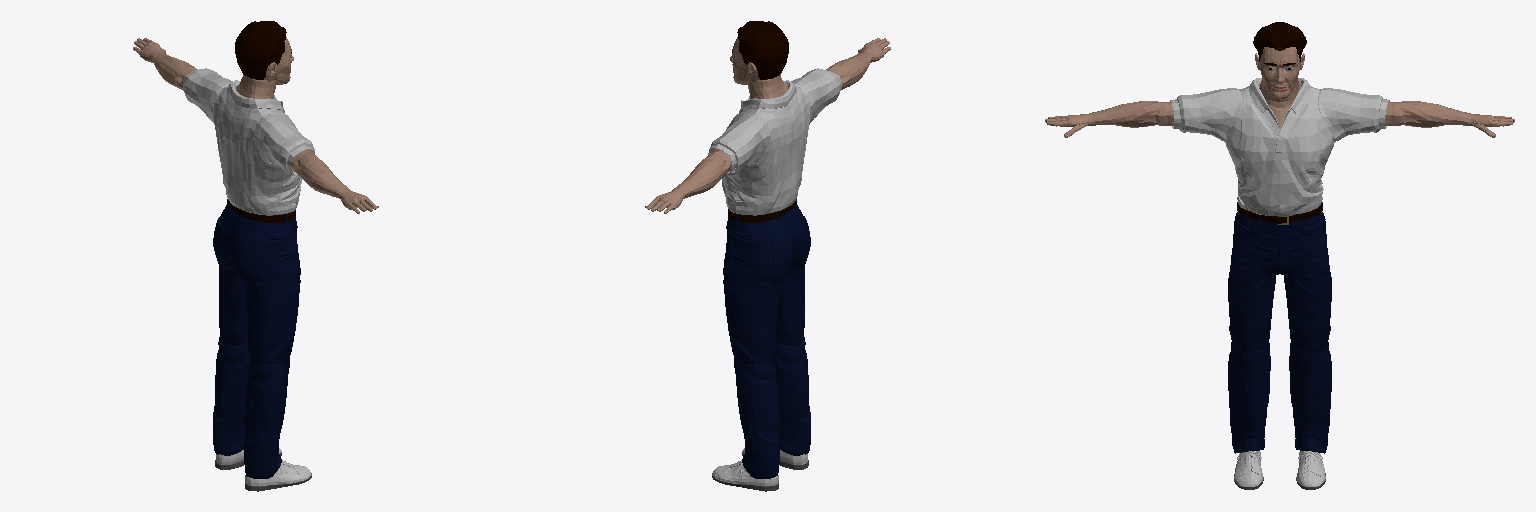
--- What the picture shows (computed from the rendered views, not written in the file) ---
Views: 3 orthographic renders of the robot side by side, from view 1: azimuth 30°, elevation 25°; view 2: azimuth 150°, elevation 25°; view 3: azimuth 270°, elevation 25°.
Model HUMAN with 62 links and 61 joints (30 revolute, 31 fixed), rooted at base_link, posed all joints at 0.
Links seen in each view (by area): view 1: TorsoLink, HipsLink, RShinLink, RLegLink, LShinLink, HeadLink, RArmLink, LLegLink, LArmLink, RForearmLink, RAnkleLink, LForearmLink; view 2: TorsoLink, HipsLink, LShinLink, LLegLink, RShinLink, HeadLink, LArmLink, RLegLink, RArmLink, LForearmLink, LAnkleLink, RForearmLink; view 3: TorsoLink, HipsLink, LShinLink, RShinLink, RLegLink, LLegLink, HeadLink, RArmLink, LArmLink, LForearmLink, RForearmLink, LAnkleLink (+1 smaller).
Link boxes in pixels (box(x1,y1,x2,y2)): TorsoLink: box(212, 74, 301, 215); HipsLink: box(213, 199, 299, 284); RShinLink: box(244, 358, 289, 478); RLegLink: box(244, 265, 300, 364); LShinLink: box(213, 337, 249, 455); HeadLink: box(235, 21, 293, 84); RArmLink: box(254, 114, 314, 175); LLegLink: box(218, 262, 247, 345); LArmLink: box(183, 68, 232, 122); RForearmLink: box(294, 153, 349, 198); RAnkleLink: box(245, 460, 311, 491); LForearmLink: box(151, 52, 194, 89); TorsoLink: box(722, 74, 811, 215); HipsLink: box(724, 199, 810, 284); LShinLink: box(734, 358, 779, 478); LLegLink: box(723, 265, 779, 364); RShinLink: box(774, 337, 810, 455); HeadLink: box(730, 21, 788, 84); LArmLink: box(708, 114, 769, 175); RLegLink: box(776, 262, 805, 345); RArmLink: box(791, 68, 841, 122); LForearmLink: box(672, 153, 729, 198); LAnkleLink: box(712, 460, 778, 491); RForearmLink: box(829, 52, 872, 89); TorsoLink: box(1225, 64, 1334, 216); HipsLink: box(1232, 202, 1327, 277); LShinLink: box(1289, 342, 1331, 453); RShinLink: box(1228, 342, 1270, 453); RLegLink: box(1228, 255, 1275, 352); LLegLink: box(1284, 255, 1331, 352); HeadLink: box(1253, 22, 1306, 98); RArmLink: box(1170, 88, 1241, 141); LArmLink: box(1318, 88, 1389, 141); LForearmLink: box(1396, 101, 1469, 127); RForearmLink: box(1090, 101, 1163, 127); LAnkleLink: box(1296, 451, 1325, 489).
Bounding box of the posed robot: 0.2779 × 1.61 × 1.69 m (x, y, z).
47 mesh visuals loaded from 47 distinct referenced files (47 Collada DAE).

The robot description file, URDF, robot "HUMAN":
<?xml version="1.0" ?>
<robot name="HUMAN" xmlns:xacro="http://ros.org/wiki/xacro">
  
  <link name="base_link"/>

  <joint name="base" type="fixed">
    <parent link="base_link"/>
    <child link="HipsLink"/>
    <origin rpy="0 0 0" xyz="0 0 0.987"/>
  </joint>

  <!-- Body Links -->
  <link name="HipsLink">
    <inertial>
      <origin rpy="0 0 0" xyz="-0.0232 0.0 -0.1192"/>
      <mass value="20.9238"/>
      <inertia ixx="-0.3225" ixy="-0.0" ixz="-0.0" iyy="0.0" iyz="0.2362" izz="0.0"/>
    </inertial>
    <visual>
      <origin rpy="0 0 0" xyz="0 0 0"/>
      <geometry>
        <mesh filename="package://human_description/meshes/HipsLinkFull.dae"/>
      </geometry>
    </visual>
    <collision>
      <origin rpy="0 0 0" xyz="0 0 0"/>
      <geometry>
        <mesh filename="package://human_description/meshes/HipsLinkFull.dae"/>
      </geometry>
    </collision>
  </link>

  <link name="TorsoLink">
    <inertial>
      <origin rpy="0 0 0" xyz="-0.1334 0.1949 0.4701"/>
      <mass value="10.7790"/>
      <inertia ixx="-0.3481" ixy="-0.0" ixz="-0.0" iyy="0.0" iyz="0.2709" izz="0.0"/>
    </inertial>
    <visual>
      <origin rpy="0 0 0" xyz="0 0 0"/>
      <geometry>
        <mesh filename="package://human_description/meshes/TorsoLinkFull.dae"/>
      </geometry>
    </visual>
    <collision>
      <origin rpy="0 0 0" xyz="0 0 0"/>
      <geometry>
        <mesh filename="package://human_description/meshes/TorsoLinkFull.dae"/>
      </geometry>
    </collision>
  </link>

  <link name="HeadLink">
    <inertial>
      <origin rpy="0 0 0" xyz="0.0459 0.0133 0.0433"/>
      <mass value="4.7372"/>
      <inertia ixx="-0.1891" ixy="-0.0" ixz="-0.0" iyy="0.0" iyz="0.1891" izz="0.0"/>
    </inertial>
    <visual>
      <origin rpy="0 0 0" xyz="0 0 0"/>
      <geometry>
        <mesh filename="package://human_description/meshes/HeadLinkFull.dae"/>
      </geometry>
    </visual>
    <collision>
      <origin rpy="0 0 0" xyz="0 0 0"/>
      <geometry>
        <mesh filename="package://human_description/meshes/HeadLinkFull.dae"/>
      </geometry>
    </collision>
  </link>

  <link name="LArmLink">
    <inertial>
      <origin rpy="0 0 0" xyz="-0.0 0.1328 0.0"/>
      <mass value="1.96"/>
      <inertia ixx="-0.3475" ixy="-0.0" ixz="-0.0" iyy="0.0" iyz="0.6719" izz="0.0"/>
    </inertial>
    <visual>
      <origin rpy="0 0 0" xyz="0 0 0"/>
      <geometry>
        <mesh filename="package://human_description/meshes/LArmLinkFull.dae"/>
      </geometry>
    </visual>
    <collision>
      <origin rpy="0 0 0" xyz="0 0 0"/>
      <geometry>
        <mesh filename="package://human_description/meshes/LArmLinkFull.dae"/>
      </geometry>
    </collision>
  </link>

  <link name="LElbowLink">
    <inertial>
      <origin rpy="0 0 0" xyz="0.000513 0.034528 -0.000934"/>
      <mass value="0.25"/>
      <inertia ixx="-5.9e-05" ixy="-0.0" ixz="-0.0" iyy="0.0" iyz="8e-05" izz="0.0"/>
    </inertial>
    <visual>
      <origin rpy="0 0 0" xyz="0 0 0"/>
      <geometry>
        <mesh filename="package://human_description/meshes/LElbowLink.dae"/>
      </geometry>
    </visual>
    <collision>
      <origin rpy="0 0 0" xyz="0 0 0"/>
      <geometry>
        <mesh filename="package://human_description/meshes/LElbowLink.dae"/>
      </geometry>
    </collision>
  </link>

  <link name="LForearmLink">
    <inertial>
      <origin rpy="0 0 0" xyz="-0.0 0.15114 0.0"/>
      <mass value="1.18"/>
      <inertia ixx="-0.0753" ixy="-0.0" ixz="-0.0" iyy="0.0" iyz="0.1326" izz="0.0"/>
    </inertial>
    <visual>
      <origin rpy="0 0 0" xyz="0 0 0"/>
      <geometry>
        <mesh filename="package://human_description/meshes/LForearmLink.dae"/>
      </geometry>
    </visual>
    <collision>
      <origin rpy="0 0 0" xyz="0 0 0"/>
      <geometry>
        <mesh filename="package://human_description/meshes/LForearmLink.dae"/>
      </geometry>
    </collision>
  </link>

  <link name="LHandLink">
    <inertial>
      <origin rpy="0 0 0" xyz="0.0139 0.042 -0.0128"/>
      <mass value="0.272"/>
      <inertia ixx="-0.00029946" ixy="-0.0" ixz="-0.0" iyy="0.0" iyz="0.00019118" izz="0.0"/>
    </inertial>
    <visual>
      <origin rpy="0 0 0" xyz="0 0 0"/>
      <geometry>
        <mesh filename="package://human_description/meshes/LWrist.dae"/>
      </geometry>
    </visual>
    <collision>
      <origin rpy="0 0 0" xyz="0 0 0"/>
      <geometry>
        <mesh filename="package://human_description/meshes/LWrist.dae"/>
      </geometry>
    </collision>
  </link>

  <link name="RArmLink">
    <inertial>
      <origin rpy="0 0 0" xyz="-0.0 -0.1328 0.0"/>
      <mass value="1.96"/>
      <inertia ixx="-0.3475" ixy="-0.0" ixz="-0.0" iyy="0.0" iyz="0.6719" izz="0.0"/>
    </inertial>
    <visual>
      <origin rpy="0 0 0" xyz="0 0 0"/>
      <geometry>
        <mesh filename="package://human_description/meshes/RArmLinkFull.dae"/>
      </geometry>
    </visual>
    <collision>
      <origin rpy="0 0 0" xyz="0 0 0"/>
      <geometry>
        <mesh filename="package://human_description/meshes/RArmLinkFull.dae"/>
      </geometry>
    </collision>
  </link>

  <link name="RElbowLink">
    <inertial>
      <origin rpy="0 0 0" xyz="0.000513 -0.034528 -0.000934"/>
      <mass value="0.25"/>
      <inertia ixx="-5.9e-05" ixy="-0.0" ixz="-0.0" iyy="0.0" iyz="8e-05" izz="0.0"/>
    </inertial>
    <visual>
      <origin rpy="0 0 0" xyz="0 0 0"/>
      <geometry>
        <mesh filename="package://human_description/meshes/RElbowLink.dae"/>
      </geometry>
    </visual>
    <collision>
      <origin rpy="0 0 0" xyz="0 0 0"/>
      <geometry>
        <mesh filename="package://human_description/meshes/RElbowLink.dae"/>
      </geometry>
    </collision>
  </link>

  <link name="RForearmLink">
    <inertial>
      <origin rpy="0 0 0" xyz="-0.0 -0.15114 0.0"/>
      <mass value="1.18"/>
      <inertia ixx="-0.0753" ixy="-0.0" ixz="-0.0" iyy="0.0" iyz="0.1326" izz="0.0"/>
    </inertial>
    <visual>
      <origin rpy="0 0 0" xyz="0 0 0"/>
      <geometry>
        <mesh filename="package://human_description/meshes/RForearmLink.dae"/>
      </geometry>
    </visual>
    <collision>
      <origin rpy="0 0 0" xyz="0 0 0"/>
      <geometry>
        <mesh filename="package://human_description/meshes/RForearmLink.dae"/>
      </geometry>
    </collision>
  </link>

  <link name="RHandLink">
    <inertial>
      <origin rpy="0 0 0" xyz="0.0139 -0.042 -0.0128"/>
      <mass value="0.272"/>
      <inertia ixx="-0.00029946" ixy="-0.0" ixz="-0.0" iyy="0.0" iyz="0.00019118" izz="0.0"/>
    </inertial>
    <visual>
      <origin rpy="0 0 0" xyz="0 0 0"/>
      <geometry>
        <mesh filename="package://human_description/meshes/RWrist.dae"/>
      </geometry>
    </visual>
    <collision>
      <origin rpy="0 0 0" xyz="0 0 0"/>
      <geometry>
        <mesh filename="package://human_description/meshes/RWrist.dae"/>
      </geometry>
    </collision>
  </link>

  <link name="LLegLink">
    <inertial>
      <origin rpy="0 0 0" xyz="-0.0185 -0.0071 -0.178"/>
      <mass value="6.51"/>
      <inertia ixx="-0.1264" ixy="-0.0" ixz="-0.0" iyy="0.0" iyz="0.1264" izz="0.0"/>
    </inertial>
    <visual>
      <origin rpy="0 0 0" xyz="0 0 0"/>
      <geometry>
        <mesh filename="package://human_description/meshes/LLegLink.dae"/>
      </geometry>
    </visual>
    <collision>
      <origin rpy="0 0 0" xyz="0 0 0"/>
      <geometry>
        <mesh filename="package://human_description/meshes/LLegLink.dae"/>
      </geometry>
    </collision>
  </link>

  <link name="LShinLink">
    <inertial>
      <origin rpy="0 0 0" xyz="-0.0131 0.0025 0.0346"/>
      <mass value="3.095"/>
      <inertia ixx="-0.0632" ixy="-0.0" ixz="-0.0" iyy="0.0" iyz="0.0632" izz="0.0"/>
    </inertial>
    <visual>
      <origin rpy="0 0 0" xyz="0 0 0"/>
      <geometry>
        <mesh filename="package://human_description/meshes/LShinLink.dae"/>
      </geometry>
    </visual>
    <collision>
      <origin rpy="0 0 0" xyz="0 0 0"/>
      <geometry>
        <mesh filename="package://human_description/meshes/LShinLink.dae"/>
      </geometry>
    </collision>
  </link>

  <link name="LAnkleLink">
    <inertial>
      <origin rpy="0 0 0" xyz="0.0508 0.0067 -0.0646"/>
      <mass value="0.99"/>
      <inertia ixx="-0.0015" ixy="-0.0" ixz="-0.0" iyy="0.0" iyz="0.0059" izz="0.0"/>
    </inertial>
    <visual>
      <origin rpy="0 0 0" xyz="0 0 0"/>
      <geometry>
        <mesh filename="package://human_description/meshes/LAnkleLinkFull.dae"/>
      </geometry>
    </visual>
    <collision>
      <origin rpy="0 0 0" xyz="0 0 0"/>
      <geometry>
        <mesh filename="package://human_description/meshes/LAnkleLinkFull.dae"/>
      </geometry>
    </collision>
  </link>

  <link name="RLegLink">
    <inertial>
      <origin rpy="0 0 0" xyz="-0.0185 -0.0071 -0.178"/>
      <mass value="6.51"/>
      <inertia ixx="-0.1264" ixy="-0.0" ixz="-0.0" iyy="0.0" iyz="0.1264" izz="0.0"/>
    </inertial>
    <visual>
      <origin rpy="0 0 0" xyz="0 0 0"/>
      <geometry>
        <mesh filename="package://human_description/meshes/RLegLink.dae"/>
      </geometry>
    </visual>
    <collision>
      <origin rpy="0 0 0" xyz="0 0 0"/>
      <geometry>
        <mesh filename="package://human_description/meshes/RLegLink.dae"/>
      </geometry>
    </collision>
  </link>

  <link name="RShinLink">
    <inertial>
      <origin rpy="0 0 0" xyz="-0.0131 0.0025 0.0346"/>
      <mass value="3.095"/>
      <inertia ixx="-0.0632" ixy="-0.0" ixz="-0.0" iyy="0.0" iyz="0.0632" izz="0.0"/>
    </inertial>
    <visual>
      <origin rpy="0 0 0" xyz="0 0 0"/>
      <geometry>
        <mesh filename="package://human_description/meshes/RShinLink.dae"/>
      </geometry>
    </visual>
    <collision>
      <origin rpy="0 0 0" xyz="0 0 0"/>
      <geometry>
        <mesh filename="package://human_description/meshes/RShinLink.dae"/>
      </geometry>
    </collision>
  </link>

  <link name="RAnkleLink">
    <inertial>
      <origin rpy="0 0 0" xyz="0.0508 -0.0067 -0.0646"/>
      <mass value="0.99"/>
      <inertia ixx="-0.0015" ixy="-0.0" ixz="-0.0" iyy="0.0" iyz="0.0059" izz="0.0"/>
    </inertial>
    <visual>
      <origin rpy="0 0 0" xyz="0 0 0"/>
      <geometry>
        <mesh filename="package://human_description/meshes/RAnkleLinkFull.dae"/>
      </geometry>
    </visual>
    <collision>
      <origin rpy="0 0 0" xyz="0 0 0"/>
      <geometry>
        <mesh filename="package://human_description/meshes/RAnkleLinkFull.dae"/>
      </geometry>
    </collision>
  </link>

    <!-- Left hand fingers links -->
  <link name="LHandThumb0Link">
    <inertial>
      <origin rpy="0 0 0" xyz="0.019337 0.003385 -0.004077"/>
      <mass value="0.0182"/>
      <inertia ixx="-9e-06" ixy="-0.0" ixz="-0.0" iyy="0.0" iyz="1e-05" izz="0.0"/>
    </inertial>
    <visual>
      <origin rpy="0 0 0" xyz="0 0 0"/>
      <geometry>
        <mesh filename="package://human_description/meshes/LThumb0thPhalange.dae"/>
      </geometry>
    </visual>
    <collision>
      <origin rpy="0 0 0" xyz="0 0 0"/>
      <geometry>
        <mesh filename="package://human_description/meshes/LThumb0thPhalange.dae"/>
      </geometry>
    </collision>
  </link>
  <link name="LHandThumb1Link">
    <inertial>
      <origin rpy="0 0 0" xyz="0.01028 0.001082 0.002081"/>
      <mass value="0.0182"/>
      <inertia ixx="-4e-06" ixy="-0.0" ixz="-0.0" iyy="0.0" iyz="4e-06" izz="0.0"/>
    </inertial>
    <visual>
      <origin rpy="0 0 0" xyz="0 0 0"/>
      <geometry>
        <mesh filename="package://human_description/meshes/LThumb1stPhalange.dae"/>
      </geometry>
    </visual>
    <collision>
      <origin rpy="0 0 0" xyz="0 0 0"/>
      <geometry>
        <mesh filename="package://human_description/meshes/LThumb1stPhalange.dae"/>
      </geometry>
    </collision>
  </link>
  <link name="LHandThumb2Link">
    <inertial>
      <origin rpy="0 0 0" xyz="0.016873 0.000626 -0.001112"/>
      <mass value="0.0182"/>
      <inertia ixx="-4e-06" ixy="-0.0" ixz="-0.0" iyy="0.0" iyz="4e-06" izz="0.0"/>
    </inertial>
    <visual>
      <origin rpy="0 0 0" xyz="0 0 0"/>
      <geometry>
        <mesh filename="package://human_description/meshes/LThumb2ndPhalange.dae"/>
      </geometry>
    </visual>
    <collision>
      <origin rpy="0 0 0" xyz="0 0 0"/>
      <geometry>
        <mesh filename="package://human_description/meshes/LThumb2ndPhalange.dae"/>
      </geometry>
    </collision>
  </link>
  <link name="LHandIndex1Link">
    <inertial>
      <origin rpy="0 0 0" xyz="-0.001367 0.01696 0.001019"/>
      <mass value="0.0182"/>
      <inertia ixx="-5e-06" ixy="-0.0" ixz="-0.0" iyy="0.0" iyz="5e-06" izz="0.0"/>
    </inertial>
    <visual>
      <origin rpy="0 0 0" xyz="0 0 0"/>
      <geometry>
        <mesh filename="package://human_description/meshes/LIndex1stPhalange.dae"/>
      </geometry>
    </visual>
    <collision>
      <origin rpy="0 0 0" xyz="0 0 0"/>
      <geometry>
        <mesh filename="package://human_description/meshes/LIndex1stPhalange.dae"/>
      </geometry>
    </collision>
  </link>
  <link name="LHandIndex2Link">
    <inertial>
      <origin rpy="0 0 0" xyz="0.000441 0.009184 0.000856"/>
      <mass value="0.0182"/>
      <inertia ixx="-3e-06" ixy="-0.0" ixz="-0.0" iyy="0.0" iyz="3e-06" izz="0.0"/>
    </inertial>
    <visual>
      <origin rpy="0 0 0" xyz="0 0 0"/>
      <geometry>
        <mesh filename="package://human_description/meshes/LIndex2ndPhalange.dae"/>
      </geometry>
    </visual>
    <collision>
      <origin rpy="0 0 0" xyz="0 0 0"/>
      <geometry>
        <mesh filename="package://human_description/meshes/LIndex2ndPhalange.dae"/>
      </geometry>
    </collision>
  </link>
  <link name="LHandIndex3Link">
    <inertial>
      <origin rpy="0 0 0" xyz="-0.001129 0.010116 0.001347"/>
      <mass value="0.0182"/>
      <inertia ixx="-2e-06" ixy="-0.0" ixz="-0.0" iyy="0.0" iyz="2e-06" izz="0.0"/>
    </inertial>
    <visual>
      <origin rpy="0 0 0" xyz="0 0 0"/>
      <geometry>
        <mesh filename="package://human_description/meshes/LIndex3rdPhalange.dae"/>
      </geometry>
    </visual>
    <collision>
      <origin rpy="0 0 0" xyz="0 0 0"/>
      <geometry>
        <mesh filename="package://human_description/meshes/LIndex3rdPhalange.dae"/>
      </geometry>
    </collision>
  </link>
  <link name="LHandMiddle1Link">
    <inertial>
      <origin rpy="0 0 0" xyz="-0.000126 0.013279 0.000876"/>
      <mass value="0.0182"/>
      <inertia ixx="-3e-06" ixy="-0.0" ixz="-0.0" iyy="0.0" iyz="4e-06" izz="0.0"/>
    </inertial>
    <visual>
      <origin rpy="0 0 0" xyz="0 0 0"/>
      <geometry>
        <mesh filename="package://human_description/meshes/LMiddle1stPhalange.dae"/>
      </geometry>
    </visual>
    <collision>
      <origin rpy="0 0 0" xyz="0 0 0"/>
      <geometry>
        <mesh filename="package://human_description/meshes/LMiddle1stPhalange.dae"/>
      </geometry>
    </collision>
  </link>
  <link name="LHandMiddle2Link">
    <inertial>
      <origin rpy="0 0 0" xyz="-0.000232 0.010285 0.001535"/>
      <mass value="0.0182"/>
      <inertia ixx="-3e-06" ixy="-0.0" ixz="-0.0" iyy="0.0" iyz="3e-06" izz="0.0"/>
    </inertial>
    <visual>
      <origin rpy="0 0 0" xyz="0 0 0"/>
      <geometry>
        <mesh filename="package://human_description/meshes/LMiddle2ndPhalange.dae"/>
      </geometry>
    </visual>
    <collision>
      <origin rpy="0 0 0" xyz="0 0 0"/>
      <geometry>
        <mesh filename="package://human_description/meshes/LMiddle2ndPhalange.dae"/>
      </geometry>
    </collision>
  </link>
  <link name="LHandMiddle3Link">
    <inertial>
      <origin rpy="0 0 0" xyz="-0.000228 0.009327 0.001888"/>
      <mass value="0.0182"/>
      <inertia ixx="-2e-06" ixy="-0.0" ixz="-0.0" iyy="0.0" iyz="2e-06" izz="0.0"/>
    </inertial>
    <visual>
      <origin rpy="0 0 0" xyz="0 0 0"/>
      <geometry>
        <mesh filename="package://human_description/meshes/LMiddle3rdPhalange.dae"/>
      </geometry>
    </visual>
    <collision>
      <origin rpy="0 0 0" xyz="0 0 0"/>
      <geometry>
        <mesh filename="package://human_description/meshes/LMiddle3rdPhalange.dae"/>
      </geometry>
    </collision>
  </link>
  <link name="LHandRing1Link">
    <inertial>
      <origin rpy="0 0 0" xyz="-0.001164 0.011568 -0.002292"/>
      <mass value="0.0182"/>
      <inertia ixx="-3e-06" ixy="-0.0" ixz="-0.0" iyy="0.0" iyz="4e-06" izz="0.0"/>
    </inertial>
    <visual>
      <origin rpy="0 0 0" xyz="0 0 0"/>
      <geometry>
        <mesh filename="package://human_description/meshes/LRing1stPhalange.dae"/>
      </geometry>
    </visual>
    <collision>
      <origin rpy="0 0 0" xyz="0 0 0"/>
      <geometry>
        <mesh filename="package://human_description/meshes/LRing1stPhalange.dae"/>
      </geometry>
    </collision>
  </link>
  <link name="LHandRing2Link">
    <inertial>
      <origin rpy="0 0 0" xyz="-0.000672 0.011883 0.001817"/>
      <mass value="0.0182"/>
      <inertia ixx="-3e-06" ixy="-0.0" ixz="-0.0" iyy="0.0" iyz="3e-06" izz="0.0"/>
    </inertial>
    <visual>
      <origin rpy="0 0 0" xyz="0 0 0"/>
      <geometry>
        <mesh filename="package://human_description/meshes/LRing2ndPhalange.dae"/>
      </geometry>
    </visual>
    <collision>
      <origin rpy="0 0 0" xyz="0 0 0"/>
      <geometry>
        <mesh filename="package://human_description/meshes/LRing2ndPhalange.dae"/>
      </geometry>
    </collision>
  </link>
  <link name="LHandRing3Link">
    <inertial>
      <origin rpy="0 0 0" xyz="0.000957 0.007793 0.000943"/>
      <mass value="0.0182"/>
      <inertia ixx="-1e-06" ixy="-0.0" ixz="-0.0" iyy="0.0" iyz="2e-06" izz="0.0"/>
    </inertial>
    <visual>
      <origin rpy="0 0 0" xyz="0 0 0"/>
      <geometry>
        <mesh filename="package://human_description/meshes/LRing3rdPhalange.dae"/>
      </geometry>
    </visual>
    <collision>
      <origin rpy="0 0 0" xyz="0 0 0"/>
      <geometry>
        <mesh filename="package://human_description/meshes/LRing3rdPhalange.dae"/>
      </geometry>
    </collision>
  </link>
  <link name="LHandBaby1Link">
    <inertial>
      <origin rpy="0 0 0" xyz="-0.000982 0.009799 0.000912"/>
      <mass value="0.0182"/>
      <inertia ixx="-2e-06" ixy="-0.0" ixz="-0.0" iyy="0.0" iyz="3e-06" izz="0.0"/>
    </inertial>
    <visual>
      <origin rpy="0 0 0" xyz="0 0 0"/>
      <geometry>
        <mesh filename="package://human_description/meshes/LBaby1stPhalange.dae"/>
      </geometry>
    </visual>
    <collision>
      <origin rpy="0 0 0" xyz="0 0 0"/>
      <geometry>
        <mesh filename="package://human_description/meshes/LBaby1stPhalange.dae"/>
      </geometry>
    </collision>
  </link>
  <link name="LHandBaby2Link">
    <inertial>
      <origin rpy="0 0 0" xyz="-0.000602 0.009315 0.001953"/>
      <mass value="0.0182"/>
      <inertia ixx="-2e-06" ixy="-0.0" ixz="-0.0" iyy="0.0" iyz="2e-06" izz="0.0"/>
    </inertial>
    <visual>
      <origin rpy="0 0 0" xyz="0 0 0"/>
      <geometry>
        <mesh filename="package://human_description/meshes/LBaby2ndPhalange.dae"/>
      </geometry>
    </visual>
    <collision>
      <origin rpy="0 0 0" xyz="0 0 0"/>
      <geometry>
        <mesh filename="package://human_description/meshes/LBaby2ndPhalange.dae"/>
      </geometry>
    </collision>
  </link>
  <link name="LHandBaby3Link">
    <inertial>
      <origin rpy="0 0 0" xyz="-0.018741 0.030511 0.01986"/>
      <mass value="0.0182"/>
      <inertia ixx="-1.9e-05" ixy="-0.0" ixz="-0.0" iyy="0.0" iyz="2.5e-05" izz="0.0"/>
    </inertial>
    <visual>
      <origin rpy="0 0 0" xyz="0 0 0"/>
      <geometry>
        <mesh filename="package://human_description/meshes/LBaby3rdPhalange.dae"/>
      </geometry>
    </visual>
    <collision>
      <origin rpy="0 0 0" xyz="0 0 0"/>
      <geometry>
        <mesh filename="package://human_description/meshes/LBaby3rdPhalange.dae"/>
      </geometry>
    </collision>
  </link>

  <!-- Right hand fingers links -->
  <link name="RHandThumb0Link">
    <inertial>
      <origin rpy="0 0 0" xyz="0.019337 -0.003385 -0.004077"/>
      <mass value="0.0182"/>
      <inertia ixx="-9e-06" ixy="-0.0" ixz="-0.0" iyy="0.0" iyz="1e-05" izz="0.0"/>
    </inertial>
    <visual>
      <origin rpy="0 0 0" xyz="0 0 0"/>
      <geometry>
        <mesh filename="package://human_description/meshes/RThumb0thPhalange.dae"/>
      </geometry>
    </visual>
    <collision>
      <origin rpy="0 0 0" xyz="0 0 0"/>
      <geometry>
        <mesh filename="package://human_description/meshes/RThumb0thPhalange.dae"/>
      </geometry>
    </collision>
  </link>
  <link name="RHandThumb1Link">
    <inertial>
      <origin rpy="0 0 0" xyz="0.01028 -0.001082 0.002081"/>
      <mass value="0.0182"/>
      <inertia ixx="-4e-06" ixy="-0.0" ixz="-0.0" iyy="0.0" iyz="4e-06" izz="0.0"/>
    </inertial>
    <visual>
      <origin rpy="0 0 0" xyz="0 0 0"/>
      <geometry>
        <mesh filename="package://human_description/meshes/RThumb1stPhalange.dae"/>
      </geometry>
    </visual>
    <collision>
      <origin rpy="0 0 0" xyz="0 0 0"/>
      <geometry>
        <mesh filename="package://human_description/meshes/RThumb1stPhalange.dae"/>
      </geometry>
    </collision>
  </link>
  <link name="RHandThumb2Link">
    <inertial>
      <origin rpy="0 0 0" xyz="0.016873 -0.000626 -0.001112"/>
      <mass value="0.0182"/>
      <inertia ixx="-4e-06" ixy="-0.0" ixz="-0.0" iyy="0.0" iyz="4e-06" izz="0.0"/>
    </inertial>
    <visual>
      <origin rpy="0 0 0" xyz="0 0 0"/>
      <geometry>
        <mesh filename="package://human_description/meshes/RThumb2ndPhalange.dae"/>
      </geometry>
    </visual>
    <collision>
      <origin rpy="0 0 0" xyz="0 0 0"/>
      <geometry>
        <mesh filename="package://human_description/meshes/RThumb2ndPhalange.dae"/>
      </geometry>
    </collision>
  </link>
  <link name="RHandIndex1Link">
    <inertial>
      <origin rpy="0 0 0" xyz="-0.001367 -0.01696 0.001019"/>
      <mass value="0.0182"/>
      <inertia ixx="-5e-06" ixy="-0.0" ixz="-0.0" iyy="0.0" iyz="5e-06" izz="0.0"/>
    </inertial>
    <visual>
      <origin rpy="0 0 0" xyz="0 0 0"/>
      <geometry>
        <mesh filename="package://human_description/meshes/RIndex1stPhalange.dae"/>
      </geometry>
    </visual>
    <collision>
      <origin rpy="0 0 0" xyz="0 0 0"/>
      <geometry>
        <mesh filename="package://human_description/meshes/RIndex1stPhalange.dae"/>
      </geometry>
    </collision>
  </link>
  <link name="RHandIndex2Link">
    <inertial>
      <origin rpy="0 0 0" xyz="0.000441 -0.009184 0.000856"/>
      <mass value="0.0182"/>
      <inertia ixx="-3e-06" ixy="-0.0" ixz="-0.0" iyy="0.0" iyz="3e-06" izz="0.0"/>
    </inertial>
    <visual>
      <origin rpy="0 0 0" xyz="0 0 0"/>
      <geometry>
        <mesh filename="package://human_description/meshes/RIndex2ndPhalange.dae"/>
      </geometry>
    </visual>
    <collision>
      <origin rpy="0 0 0" xyz="0 0 0"/>
      <geometry>
        <mesh filename="package://human_description/meshes/RIndex2ndPhalange.dae"/>
      </geometry>
    </collision>
  </link>
  <link name="RHandIndex3Link">
    <inertial>
      <origin rpy="0 0 0" xyz="-0.001129 -0.010116 0.001347"/>
      <mass value="0.0182"/>
      <inertia ixx="-2e-06" ixy="-0.0" ixz="-0.0" iyy="0.0" iyz="2e-06" izz="0.0"/>
    </inertial>
    <visual>
      <origin rpy="0 0 0" xyz="0 0 0"/>
      <geometry>
        <mesh filename="package://human_description/meshes/RIndex3rdPhalange.dae"/>
      </geometry>
    </visual>
    <collision>
      <origin rpy="0 0 0" xyz="0 0 0"/>
      <geometry>
        <mesh filename="package://human_description/meshes/RIndex3rdPhalange.dae"/>
      </geometry>
    </collision>
  </link>
  <link name="RHandMiddle1Link">
    <inertial>
      <origin rpy="0 0 0" xyz="-0.000126 -0.013279 0.000876"/>
      <mass value="0.0182"/>
      <inertia ixx="-3e-06" ixy="-0.0" ixz="-0.0" iyy="0.0" iyz="4e-06" izz="0.0"/>
    </inertial>
    <visual>
      <origin rpy="0 0 0" xyz="0 0 0"/>
      <geometry>
        <mesh filename="package://human_description/meshes/RMiddle1stPhalange.dae"/>
      </geometry>
    </visual>
    <collision>
      <origin rpy="0 0 0" xyz="0 0 0"/>
      <geometry>
        <mesh filename="package://human_description/meshes/RMiddle1stPhalange.dae"/>
      </geometry>
    </collision>
  </link>
  <link name="RHandMiddle2Link">
    <inertial>
      <origin rpy="0 0 0" xyz="-0.000232 -0.010285 0.001535"/>
      <mass value="0.0182"/>
      <inertia ixx="-3e-06" ixy="-0.0" ixz="-0.0" iyy="0.0" iyz="3e-06" izz="0.0"/>
    </inertial>
    <visual>
      <origin rpy="0 0 0" xyz="0 0 0"/>
      <geometry>
        <mesh filename="package://human_description/meshes/RMiddle2ndPhalange.dae"/>
      </geometry>
    </visual>
    <collision>
      <origin rpy="0 0 0" xyz="0 0 0"/>
      <geometry>
        <mesh filename="package://human_description/meshes/RMiddle2ndPhalange.dae"/>
      </geometry>
    </collision>
  </link>
  <link name="RHandMiddle3Link">
    <inertial>
      <origin rpy="0 0 0" xyz="-0.000228 -0.009327 0.001888"/>
      <mass value="0.0182"/>
      <inertia ixx="-2e-06" ixy="-0.0" ixz="-0.0" iyy="0.0" iyz="2e-06" izz="0.0"/>
    </inertial>
    <visual>
      <origin rpy="0 0 0" xyz="0 0 0"/>
      <geometry>
        <mesh filename="package://human_description/meshes/RMiddle3rdPhalange.dae"/>
      </geometry>
    </visual>
    <collision>
      <origin rpy="0 0 0" xyz="0 0 0"/>
      <geometry>
        <mesh filename="package://human_description/meshes/RMiddle3rdPhalange.dae"/>
      </geometry>
    </collision>
  </link>
  <link name="RHandRing1Link">
    <inertial>
      <origin rpy="0 0 0" xyz="-0.001164 -0.011568 -0.002292"/>
      <mass value="0.0182"/>
      <inertia ixx="-3e-06" ixy="-0.0" ixz="-0.0" iyy="0.0" iyz="4e-06" izz="0.0"/>
    </inertial>
    <visual>
      <origin rpy="0 0 0" xyz="0 0 0"/>
      <geometry>
        <mesh filename="package://human_description/meshes/RRing1stPhalange.dae"/>
      </geometry>
    </visual>
    <collision>
      <origin rpy="0 0 0" xyz="0 0 0"/>
      <geometry>
        <mesh filename="package://human_description/meshes/RRing1stPhalange.dae"/>
      </geometry>
    </collision>
  </link>
  <link name="RHandRing2Link">
    <inertial>
      <origin rpy="0 0 0" xyz="-0.000672 -0.011883 0.001817"/>
      <mass value="0.0182"/>
      <inertia ixx="-3e-06" ixy="-0.0" ixz="-0.0" iyy="0.0" iyz="3e-06" izz="0.0"/>
    </inertial>
    <visual>
      <origin rpy="0 0 0" xyz="0 0 0"/>
      <geometry>
        <mesh filename="package://human_description/meshes/RRing2ndPhalange.dae"/>
      </geometry>
    </visual>
    <collision>
      <origin rpy="0 0 0" xyz="0 0 0"/>
      <geometry>
        <mesh filename="package://human_description/meshes/RRing2ndPhalange.dae"/>
      </geometry>
    </collision>
  </link>
  <link name="RHandRing3Link">
    <inertial>
      <origin rpy="0 0 0" xyz="0.000957 -0.007793 0.000943"/>
      <mass value="0.0182"/>
      <inertia ixx="-1e-06" ixy="-0.0" ixz="-0.0" iyy="0.0" iyz="2e-06" izz="0.0"/>
    </inertial>
    <visual>
      <origin rpy="0 0 0" xyz="0 0 0"/>
      <geometry>
        <mesh filename="package://human_description/meshes/RRing3rdPhalange.dae"/>
      </geometry>
    </visual>
    <collision>
      <origin rpy="0 0 0" xyz="0 0 0"/>
      <geometry>
        <mesh filename="package://human_description/meshes/RRing3rdPhalange.dae"/>
      </geometry>
    </collision>
  </link>
  <link name="RHandBaby1Link">
    <inertial>
      <origin rpy="0 0 0" xyz="-0.000982 -0.009799 0.000912"/>
      <mass value="0.0182"/>
      <inertia ixx="-2e-06" ixy="-0.0" ixz="-0.0" iyy="0.0" iyz="3e-06" izz="0.0"/>
    </inertial>
    <visual>
      <origin rpy="0 0 0" xyz="0 0 0"/>
      <geometry>
        <mesh filename="package://human_description/meshes/RBaby1stPhalange.dae"/>
      </geometry>
    </visual>
    <collision>
      <origin rpy="0 0 0" xyz="0 0 0"/>
      <geometry>
        <mesh filename="package://human_description/meshes/RBaby1stPhalange.dae"/>
      </geometry>
    </collision>
  </link>
  <link name="RHandBaby2Link">
    <inertial>
      <origin rpy="0 0 0" xyz="-0.000602 -0.009315 0.001953"/>
      <mass value="0.0182"/>
      <inertia ixx="-2e-06" ixy="-0.0" ixz="-0.0" iyy="0.0" iyz="2e-06" izz="0.0"/>
    </inertial>
    <visual>
      <origin rpy="0 0 0" xyz="0 0 0"/>
      <geometry>
        <mesh filename="package://human_description/meshes/RBaby2ndPhalange.dae"/>
      </geometry>
    </visual>
    <collision>
      <origin rpy="0 0 0" xyz="0 0 0"/>
      <geometry>
        <mesh filename="package://human_description/meshes/RBaby2ndPhalange.dae"/>
      </geometry>
    </collision>
  </link>
  <link name="RHandBaby3Link">
    <inertial>
      <origin rpy="0 0 0" xyz="-0.018741 -0.030511 0.01986"/>
      <mass value="0.0182"/>
      <inertia ixx="-1.9e-05" ixy="-0.0" ixz="-0.0" iyy="0.0" iyz="2.5e-05" izz="0.0"/>
    </inertial>
    <visual>
      <origin rpy="0 0 0" xyz="0 0 0"/>
      <geometry>
        <mesh filename="package://human_description/meshes/RBaby3rdPhalange.dae"/>
      </geometry>
    </visual>
    <collision>
      <origin rpy="0 0 0" xyz="0 0 0"/>
      <geometry>
        <mesh filename="package://human_description/meshes/RBaby3rdPhalange.dae"/>
      </geometry>
    </collision>
  </link>

 

  <!-- Joints -->

  <!-- Hips to Torso : spherical -->
  <link name="hip2torso_1">
    <inertial>
      <origin rpy="0 0 0" xyz="0.01 0.01 0.01"/>
      <mass value="0.2"/>
      <inertia ixx="0.0000032" ixy="0.0" ixz="0.0" iyy="0.0000032" iyz="0.0" izz="0.0000032"/>
    </inertial>
    <visual>
      <geometry>
        <sphere radius="0.02"/>
      </geometry>
    </visual>
    <collision>
      <geometry>
        <sphere radius="0.02"/>
      </geometry>
    </collision>
  </link>

  <link name="hip2torso_2">
    <inertial>
      <origin rpy="0 0 0" xyz="0.01 0.01 0.01"/>
      <mass value="0.2"/>
      <inertia ixx="0.0000032" ixy="0.0" ixz="0.0" iyy="0.0000032" iyz="0.0" izz="0.0000032"/>
    </inertial>
    <visual>
      <geometry>
        <sphere radius="0.02"/>
      </geometry>
    </visual>
    <collision>
      <geometry>
        <sphere radius="0.02"/>
      </geometry>
    </collision>
  </link>

  <joint name="Torso_0" type="revolute">
    <parent link="HipsLink"/>
    <child link="hip2torso_1"/>
    <origin rpy="0.0 0.0 0.0" xyz="-0.0 0.0 0.0"/>
    <axis xyz="1 0 0"/>
    <limit effort="1" lower="-0.65" upper="0.65" velocity="1"/>
  </joint>

  <joint name="Torso_1" type="revolute">
    <parent link="hip2torso_1"/>
    <child link="hip2torso_2"/>
    <origin rpy="0.0 0.0 0.0" xyz="-0.0 0.0 0.0"/>
    <axis xyz="0 1 0"/>
    <limit effort="1" lower="-0.55" upper="2.9" velocity="1"/>
  </joint>

  <joint name="Torso_2" type="revolute">
    <parent link="hip2torso_2"/>
    <child link="TorsoLink"/>
    <origin rpy="0.0 0.0 0.0" xyz="-0.0 0.0 0.0"/>
    <axis xyz="0 0 1"/>
    <limit effort="1" lower="-0.7" upper="0.7" velocity="1"/>
  </joint>

  <!-- Torso to Head : spherical -->
  <link name="torso2head_1">
    <inertial>
      <origin rpy="0 0 0" xyz="0.005 0.005 0.005"/>
      <mass value="0.05"/>
      <inertia ixx="0.000002" ixy="0.0" ixz="0.0" iyy="0.000002" iyz="0.0" izz="0.000002"/>
    </inertial>
    <visual>
      <geometry>
        <sphere radius="0.01"/>
      </geometry>
    </visual>
    <collision>
      <geometry>
        <sphere radius="0.01"/>
      </geometry>
    </collision>
  </link>

  <link name="torso2head_2">
    <inertial>
      <origin rpy="0 0 0" xyz="0.005 0.005 0.005"/>
      <mass value="0.05"/>
      <inertia ixx="0.000002" ixy="0.0" ixz="0.0" iyy="0.000002" iyz="0.0" izz="0.000002"/>
    </inertial>
    <visual>
      <geometry>
        <sphere radius="0.01"/>
      </geometry>
    </visual>
    <collision>
      <geometry>
        <sphere radius="0.01"/>
      </geometry>
    </collision>
  </link>

  <joint name="Head_0" type="revolute">
    <parent link="TorsoLink"/>
    <child link="torso2head_1"/>
    <origin rpy="0.0 0.0 0.0" xyz="-0.025 0.0 0.525"/>
    <axis xyz="1 0 0"/>
    <limit effort="1" lower="-0.62" upper="0.62" velocity="1"/>
  </joint>

  <joint name="Head_1" type="revolute">
    <parent link="torso2head_1"/>
    <child link="torso2head_2"/>
    <origin rpy="0.0 0.0 0.0" xyz="-0.0 0.0 0.0"/>
    <axis xyz="0 1 0"/>
    <limit effort="1" lower="-0.45" upper="0.45" velocity="1"/>
  </joint>

  <joint name="Head_2" type="revolute">
    <parent link="torso2head_2"/>
    <child link="HeadLink"/>
    <origin rpy="0.0 0.0 0.0" xyz="-0.0 0.0 0.0"/>
    <axis xyz="0 0 1"/>
    <limit effort="1" lower="-1.1" upper="1.1" velocity="1"/>
  </joint>

  <!-- Torso to left Shoulder : spherical -->
  <link name="torso2lshoulder_1">
    <inertial>
      <origin rpy="0 0 0" xyz="0.01 0.01 0.01"/>
      <mass value="0.2"/>
      <inertia ixx="0.0000032" ixy="0.0" ixz="0.0" iyy="0.0000032" iyz="0.0" izz="0.0000032"/>
    </inertial>
    <visual>
      <geometry>
        <sphere radius="0.02"/>
      </geometry>
    </visual>
    <collision>
      <geometry>
        <sphere radius="0.02"/>
      </geometry>
    </collision>
  </link>

  <link name="torso2lshoulder_2">
    <inertial>
      <origin rpy="0 0 0" xyz="0.01 0.01 0.01"/>
      <mass value="0.2"/>
      <inertia ixx="0.0000032" ixy="0.0" ixz="0.0" iyy="0.0000032" iyz="0.0" izz="0.0000032"/>
    </inertial>
    <visual>
      <geometry>
        <sphere radius="0.02"/>
      </geometry>
    </visual>
    <collision>
      <geometry>
        <sphere radius="0.02"/>
      </geometry>
    </collision>
  </link>

  <joint name="LArm_0" type="revolute">
    <parent link="TorsoLink"/>
    <child link="torso2lshoulder_1"/>
    <origin rpy="0.0 0.0 0.0" xyz="-0.05 0.15 0.35"/>
    <axis xyz="1 0 0"/>
    <limit effort="1" lower="-1.42" upper="1.57" velocity="1"/>
  </joint>

  <joint name="LArm_1" type="revolute">
    <parent link="torso2lshoulder_1"/>
    <child link="torso2lshoulder_2"/>
    <origin rpy="0.0 0.0 0.0" xyz="-0.0 0.0 0.0"/>
    <axis xyz="0 1 0"/>
    <limit effort="1" lower="-1.2" upper="1.2" velocity="1"/>
  </joint>

  <joint name="LArm_2" type="revolute">
    <parent link="torso2lshoulder_2"/>
    <child link="LArmLink"/>
    <origin rpy="0.0 0.0 0.0" xyz="-0.0 0.0 0.0"/>
    <axis xyz="0 0 1"/>
    <limit effort="1" lower="-2.25" upper="0.78" velocity="1"/>
  </joint>


  <joint name="LElbow" type="revolute">
    <parent link="LArmLink"/>
    <child link="LElbowLink"/>
    <origin rpy="0.0 0.0 0.0" xyz="-0.0 0.2 0.0"/>
    <axis xyz="0 1 0"/>
    <limit effort="1" lower="-1.57" upper="1.0" velocity="1"/>
  </joint>


  <joint name="LForearm" type="revolute">
    <parent link="LElbowLink"/>
    <child link="LForearmLink"/>
    <origin rpy="0.0 0.0 0.0" xyz="-0.01 0.05 0.0"/>
    <axis xyz="0 0 1"/>
    <limit effort="1" lower="-2.5" upper="0.0" velocity="1"/>
  </joint>


  <!-- Forearm to left Wrist connection-->
  <link name="forearm2lwrist_1">
    <inertial>
      <origin rpy="0 0 0" xyz="0.005 0.005 0.005"/>
      <mass value="0.05"/>
      <inertia ixx="0.000002" ixy="0.0" ixz="0.0" iyy="0.000002" iyz="0.0" izz="0.000002"/>
    </inertial>
    <visual>
      <geometry>
        <sphere radius="0.01"/>
      </geometry>
    </visual>
    <collision>
      <geometry>
        <sphere radius="0.01"/>
      </geometry>
    </collision>
  </link>

  <joint name="LWrist_0" type="revolute">
    <parent link="LForearmLink"/>
    <child link="forearm2lwrist_1"/>
    <origin rpy="0.0 0.0 0.0" xyz="0.01 0.24 -0.01"/>
    <axis xyz="1 0 0"/>
    <limit effort="1" lower="-1.5" upper="1.5" velocity="1"/>
  </joint>

  <joint name="LWrist_1" type="revolute">
    <parent link="forearm2lwrist_1"/>
    <child link="LHandLink"/>
    <origin rpy="0.0 0.0 0.0" xyz="0.0 0.0 0.0"/>
    <axis xyz="0 0 1"/>
    <limit effort="1" lower="-0.35" upper="0.35" velocity="1"/>
  </joint>


  <!-- Torso to right Shoulder : spherical -->
  <link name="torso2rshoulder_1">
    <inertial>
      <origin rpy="0 0 0" xyz="0.01 0.01 0.01"/>
      <mass value="0.2"/>
      <inertia ixx="0.0000032" ixy="0.0" ixz="0.0" iyy="0.0000032" iyz="0.0" izz="0.0000032"/>
    </inertial>
    <visual>
      <geometry>
        <sphere radius="0.02"/>
      </geometry>
    </visual>
    <collision>
      <geometry>
        <sphere radius="0.02"/>
      </geometry>
    </collision>
  </link>

  <link name="torso2rshoulder_2">
    <inertial>
      <origin rpy="0 0 0" xyz="0.01 0.01 0.01"/>
      <mass value="0.2"/>
      <inertia ixx="0.0000032" ixy="0.0" ixz="0.0" iyy="0.0000032" iyz="0.0" izz="0.0000032"/>
    </inertial>
    <visual>
      <geometry>
        <sphere radius="0.02"/>
      </geometry>
    </visual>
    <collision>
      <geometry>
        <sphere radius="0.02"/>
      </geometry>
    </collision>
  </link>

  <joint name="RArm_0" type="revolute">
    <parent link="TorsoLink"/>
    <child link="torso2rshoulder_1"/>
    <origin rpy="0.0 0.0 0.0" xyz="-0.05 -0.15 0.35"/>
    <axis xyz="1 0 0"/>
    <limit effort="1" lower="-1.42" upper="1.57" velocity="1"/>
  </joint>

  <joint name="RArm_1" type="revolute">
    <parent link="torso2rshoulder_1"/>
    <child link="torso2rshoulder_2"/>
    <origin rpy="0.0 0.0 0.0" xyz="-0.0 0.0 0.0"/>
    <axis xyz="0 1 0"/>
    <limit effort="1" lower="-1.2" upper="1.2" velocity="1"/>
  </joint>

  <joint name="RArm_2" type="revolute">
    <parent link="torso2rshoulder_2"/>
    <child link="RArmLink"/>
    <origin rpy="0.0 0.0 0.0" xyz="-0.0 0.0 0.0"/>
    <axis xyz="0 0 1"/>
    <limit effort="1" lower="-2.25" upper="0.78" velocity="1"/>
  </joint>


  <joint name="RElbow" type="revolute">
    <parent link="RArmLink"/>
    <child link="RElbowLink"/>
    <origin rpy="0.0 0.0 0.0" xyz="-0.0 -0.2 0.0"/>
    <axis xyz="0 1 0"/>
    <limit effort="1" lower="-1.57" upper="1.0" velocity="1"/>
  </joint>


  <joint name="RForearm" type="revolute">
    <parent link="RElbowLink"/>
    <child link="RForearmLink"/>
    <origin rpy="0.0 0.0 0.0" xyz="-0.01 -0.05 0.0"/>
    <axis xyz="0 0 1"/>
    <limit effort="1" lower="-2.5" upper="0.0" velocity="1"/>
  </joint>


  <!-- Forearm to right Wrist connection-->
  <link name="forearm2rwrist_1">
    <inertial>
      <origin rpy="0 0 0" xyz="0.005 0.005 0.005"/>
      <mass value="0.05"/>
      <inertia ixx="0.000002" ixy="0.0" ixz="0.0" iyy="0.000002" iyz="0.0" izz="0.000002"/>
    </inertial>
    <visual>
      <geometry>
        <sphere radius="0.01"/>
      </geometry>
    </visual>
    <collision>
      <geometry>
        <sphere radius="0.01"/>
      </geometry>
    </collision>
  </link>

  <joint name="RWrist_0" type="revolute">
    <parent link="RForearmLink"/>
    <child link="forearm2rwrist_1"/>
    <origin rpy="0.0 0.0 0.0" xyz="0.01 -0.24 -0.01"/>
    <axis xyz="1 0 0"/>
    <limit effort="1" lower="-1.5" upper="1.5" velocity="1"/>
  </joint>

  <joint name="RWrist_1" type="revolute">
    <parent link="forearm2rwrist_1"/>
    <child link="RHandLink"/>
    <origin rpy="0.0 0.0 0.0" xyz="0.0 0.0 0.0"/>
    <axis xyz="0 0 1"/>
    <limit effort="1" lower="-0.35" upper="0.35" velocity="1"/>
  </joint>


  <!-- Torso to left Leg : spherical -->
  <link name="torso2lleg_1">
    <inertial>
      <origin rpy="0 0 0" xyz="0.01 0.01 0.01"/>
      <mass value="0.2"/>
      <inertia ixx="0.0000032" ixy="0.0" ixz="0.0" iyy="0.0000032" iyz="0.0" izz="0.0000032"/>
    </inertial>
    <visual>
      <geometry>
        <sphere radius="0.02"/>
      </geometry>
    </visual>
    <collision>
      <geometry>
        <sphere radius="0.02"/>
      </geometry>
    </collision>
  </link>

  <link name="torso2lleg_2">
    <inertial>
      <origin rpy="0 0 0" xyz="0.01 0.01 0.01"/>
      <mass value="0.2"/>
      <inertia ixx="0.0000032" ixy="0.0" ixz="0.0" iyy="0.0000032" iyz="0.0" izz="0.0000032"/>
    </inertial>
    <visual>
      <geometry>
        <sphere radius="0.02"/>
      </geometry>
    </visual>
    <collision>
      <geometry>
        <sphere radius="0.02"/>
      </geometry>
    </collision>
  </link>

  <joint name="LLeg_0" type="revolute">
    <parent link="HipsLink"/>
    <child link="torso2lleg_1"/>
    <origin rpy="0.0 0.0 0.0" xyz="-0.0 0.1 -0.15"/>
    <axis xyz="1 0 0"/>
    <limit effort="1" lower="-0.52" upper="0.87" velocity="1"/>
  </joint>

  <joint name="LLeg_1" type="revolute">
    <parent link="torso2lleg_1"/>
    <child link="torso2lleg_2"/>
    <origin rpy="0.0 0.0 0.0" xyz="0.0 0.0 0.0"/>
    <axis xyz="0 1 0"/>
    <limit effort="1" lower="-2.3" upper="0.52" velocity="1"/>
  </joint>

  <joint name="LLeg_2" type="revolute">
    <parent link="torso2lleg_2"/>
    <child link="LLegLink"/>
    <origin rpy="0.0 0.0 0.0" xyz="0.0 0.0 0.0"/>
    <axis xyz="0 0 1"/>
    <limit effort="1" lower="-0.8" upper="0.8" velocity="1"/>
  </joint>


  <joint name="LShin_0" type="revolute">
    <parent link="LLegLink"/>
    <child link="LShinLink"/>
    <origin rpy="0.0 0.0 0.0" xyz="-0.025 0.0 -0.35"/>
    <axis xyz="0 1 0"/>
    <limit effort="1" lower="0.0" upper="2.6" velocity="1"/>
  </joint>

  <joint name="LAnkle_0" type="revolute">
    <parent link="LShinLink"/>
    <child link="LAnkleLink"/>
    <origin rpy="0.0 0.0 0.0" xyz="-0.025 0.0 -0.375"/>
    <axis xyz="0 1 0"/>
    <limit effort="1" lower="-0.78" upper="1.3" velocity="1"/>
  </joint>


  <!-- Torso to right Leg : spherical -->
  <link name="torso2rleg_1">
    <inertial>
      <origin rpy="0 0 0" xyz="0.01 0.01 0.01"/>
      <mass value="0.2"/>
      <inertia ixx="0.0000032" ixy="0.0" ixz="0.0" iyy="0.0000032" iyz="0.0" izz="0.0000032"/>
    </inertial>
    <visual>
      <geometry>
        <sphere radius="0.02"/>
      </geometry>
    </visual>
    <collision>
      <geometry>
        <sphere radius="0.02"/>
      </geometry>
    </collision>
  </link>

  <link name="torso2rleg_2">
    <inertial>
      <origin rpy="0 0 0" xyz="0.01 0.01 0.01"/>
      <mass value="0.2"/>
      <inertia ixx="0.0000032" ixy="0.0" ixz="0.0" iyy="0.0000032" iyz="0.0" izz="0.0000032"/>
    </inertial>
    <visual>
      <geometry>
        <sphere radius="0.02"/>
      </geometry>
    </visual>
    <collision>
      <geometry>
        <sphere radius="0.02"/>
      </geometry>
    </collision>
  </link>

  <joint name="RLeg_0" type="revolute">
    <parent link="HipsLink"/>
    <child link="torso2rleg_1"/>
    <origin rpy="0.0 0.0 0.0" xyz="-0.0 -0.1 -0.15"/>
    <axis xyz="1 0 0"/>
    <limit effort="1" lower="-0.87" upper="0.52" velocity="1"/>
  </joint>

  <joint name="RLeg_1" type="revolute">
    <parent link="torso2rleg_1"/>
    <child link="torso2rleg_2"/>
    <origin rpy="0.0 0.0 0.0" xyz="0.0 0.0 0.0"/>
    <axis xyz="0 1 0"/>
    <limit effort="1" lower="-2.3" upper="0.52" velocity="1"/>
  </joint>

  <joint name="RLeg_2" type="revolute">
    <parent link="torso2rleg_2"/>
    <child link="RLegLink"/>
    <origin rpy="0.0 0.0 0.0" xyz="0.0 0.0 0.0"/>
    <axis xyz="0 0 1"/>
    <limit effort="1" lower="-0.8" upper="0.8" velocity="1"/>
  </joint>


  <joint name="RShin_0" type="revolute">
    <parent link="RLegLink"/>
    <child link="RShinLink"/>
    <origin rpy="0.0 0.0 0.0" xyz="-0.025 0.0 -0.35"/>
    <axis xyz="0 1 0"/>
    <limit effort="1" lower="0.0" upper="2.6" velocity="1"/>
  </joint>

  <joint name="RAnkle_0" type="revolute">
    <parent link="RShinLink"/>
    <child link="RAnkleLink"/>
    <origin rpy="0.0 0.0 0.0" xyz="-0.025 0.0 -0.375"/>
    <axis xyz="0 1 0"/>
    <limit effort="1" lower="-0.78" upper="1.3" velocity="1"/>
  </joint>

    <!-- Left hand finger joints -->
  <joint name="LHandThumbLink1" type="fixed">
    <parent link="LHandLink"/>
    <child link="LHandThumb0Link"/>
    <origin rpy="0.0 0.2 0.9" xyz="0.02 0.016 -0.016"/>
  </joint>
  <joint name="LHandThumbLink2" type="fixed">
    <parent link="LHandThumb0Link"/>
    <child link="LHandThumb1Link"/>
    <origin rpy="0.0 0.0 0.0" xyz="0.045 0.0 0.0"/>
  </joint>
  <joint name="LHandThumbLink3" type="fixed">
    <parent link="LHandThumb1Link"/>
    <child link="LHandThumb2Link"/>
    <origin rpy="0.0 0.0 0.0" xyz="0.026 0.0 0.0"/>
  </joint>
  <joint name="LHandIndexLink1" type="fixed">
    <parent link="LHandLink"/>
    <child link="LHandIndex1Link"/>
    <origin rpy="0.0 0.0 0.0" xyz="0.0425 0.078 -0.01"/>
  </joint>
  <joint name="LHandIndexLink2" type="fixed">
    <parent link="LHandIndex1Link"/>
    <child link="LHandIndex2Link"/>
    <origin rpy="0.0 0.0 0.0" xyz="-0.0 0.035 0.0"/>
  </joint>
  <joint name="LHandIndexLink3" type="fixed">
    <parent link="LHandIndex2Link"/>
    <child link="LHandIndex3Link"/>
    <origin rpy="0.0 0.0 0.0" xyz="-0.0 0.022 0.0"/>
  </joint>
  <joint name="LHandMiddleLink1" type="fixed">
    <parent link="LHandLink"/>
    <child link="LHandMiddle1Link"/>
    <origin rpy="0.0 0.0 0.0" xyz="0.02 0.09 -0.01"/>
  </joint>
  <joint name="LHandMiddleLink2" type="fixed">
    <parent link="LHandMiddle1Link"/>
    <child link="LHandMiddle2Link"/>
    <origin rpy="0.0 0.0 0.0" xyz="-0.0 0.028 0.0"/>
  </joint>
  <joint name="LHandMiddleLink3" type="fixed">
    <parent link="LHandMiddle2Link"/>
    <child link="LHandMiddle3Link"/>
    <origin rpy="0.0 0.0 0.0" xyz="-0.0 0.025 0.0"/>
  </joint>
  <joint name="LHandRingLink1" type="fixed">
    <parent link="LHandLink"/>
    <child link="LHandRing1Link"/>
    <origin rpy="0.0 0.0 0.0" xyz="-0.001 0.085 -0.01"/>
  </joint>
  <joint name="LHandRingLink2" type="fixed">
    <parent link="LHandRing1Link"/>
    <child link="LHandRing2Link"/>
    <origin rpy="0.0 0.0 0.0" xyz="-0.0 0.0225 0.0"/>
  </joint>
  <joint name="LHandRingLink3" type="fixed">
    <parent link="LHandRing2Link"/>
    <child link="LHandRing3Link"/>
    <origin rpy="0.0 0.0 0.0" xyz="-0.0 0.028 0.0"/>
  </joint>
  <joint name="LHandBabyLink1" type="fixed">
    <parent link="LHandLink"/>
    <child link="LHandBaby1Link"/>
    <origin rpy="0.0 0.0 0.0" xyz="-0.015 0.079 -0.022"/>
  </joint>
  <joint name="LHandBabyLink2" type="fixed">
    <parent link="LHandBaby1Link"/>
    <child link="LHandBaby2Link"/>
    <origin rpy="0.0 0.0 0.0" xyz="-0.0 0.02 0.0"/>
  </joint>
  <joint name="LHandBabyLink3" type="fixed">
    <parent link="LHandBaby2Link"/>
    <child link="LHandBaby3Link"/>
    <origin rpy="0.0 0.0 0.0" xyz="-0.0 0.02 0.0"/>
  </joint>

  <!-- Right hand finger joints -->
  <joint name="RHandThumbLink0" type="fixed">
    <parent link="RHandLink"/>
    <child link="RHandThumb0Link"/>
    <origin rpy="0.0 0.2 -0.9" xyz="0.02 -0.016 -0.016"/>
  </joint>
  <joint name="RHandThumbLink1" type="fixed">
    <parent link="RHandThumb0Link"/>
    <child link="RHandThumb1Link"/>
    <origin rpy="0.0 0.0 0.0" xyz="0.045 0.0 0.0"/>
  </joint>
  <joint name="RHandThumbLink2" type="fixed">
    <parent link="RHandThumb1Link"/>
    <child link="RHandThumb2Link"/>
    <origin rpy="0.0 0.0 0.0" xyz="0.026 0.0 0.0"/>
  </joint>
  <joint name="RHandIndexLink1" type="fixed">
    <parent link="RHandLink"/>
    <child link="RHandIndex1Link"/>
    <origin rpy="0.0 0.0 0.0" xyz="0.0425 -0.078 -0.01"/>
  </joint>
  <joint name="RHandIndexLink2" type="fixed">
    <parent link="RHandIndex1Link"/>
    <child link="RHandIndex2Link"/>
    <origin rpy="0.0 0.0 0.0" xyz="-0.0 -0.035 0.0"/>
  </joint>
  <joint name="RHandIndexLink3" type="fixed">
    <parent link="RHandIndex2Link"/>
    <child link="RHandIndex3Link"/>
    <origin rpy="0.0 0.0 0.0" xyz="-0.0 -0.022 0.0"/>
  </joint>
  <joint name="RHandMiddleLink1" type="fixed">
    <parent link="RHandLink"/>
    <child link="RHandMiddle1Link"/>
    <origin rpy="0.0 0.0 0.0" xyz="0.02 -0.09 -0.01"/>
  </joint>
  <joint name="RHandMiddleLink2" type="fixed">
    <parent link="RHandMiddle1Link"/>
    <child link="RHandMiddle2Link"/>
    <origin rpy="0.0 0.0 0.0" xyz="-0.0 -0.028 0.0"/>
  </joint>
  <joint name="RHandMiddleLink3" type="fixed">
    <parent link="RHandMiddle2Link"/>
    <child link="RHandMiddle3Link"/>
    <origin rpy="0.0 0.0 0.0" xyz="-0.0 -0.025 0.0"/>
  </joint>
  <joint name="RHandRingLink1" type="fixed">
    <parent link="RHandLink"/>
    <child link="RHandRing1Link"/>
    <origin rpy="0.0 0.0 0.0" xyz="-0.001 -0.085 -0.01"/>
  </joint>
  <joint name="RHandRingLink2" type="fixed">
    <parent link="RHandRing1Link"/>
    <child link="RHandRing2Link"/>
    <origin rpy="0.0 0.0 0.0" xyz="-0.0 -0.0225 0.0"/>
  </joint>
  <joint name="RHandRingLink3" type="fixed">
    <parent link="RHandRing2Link"/>
    <child link="RHandRing3Link"/>
    <origin rpy="0.0 0.0 0.0" xyz="-0.0 -0.028 0.0"/>
  </joint>
  <joint name="RHandBabyLink1" type="fixed">
    <parent link="RHandLink"/>
    <child link="RHandBaby1Link"/>
    <origin rpy="0.0 0.0 0.0" xyz="-0.015 -0.079 -0.022"/>
  </joint>
  <joint name="RHandBabyLink2" type="fixed">
    <parent link="RHandBaby1Link"/>
    <child link="RHandBaby2Link"/>
    <origin rpy="0.0 0.0 0.0" xyz="-0.0 -0.02 0.0"/>
  </joint>
  <joint name="RHandBabyLink3" type="fixed">
    <parent link="RHandBaby2Link"/>
    <child link="RHandBaby3Link"/>
    <origin rpy="0.0 0.0 0.0" xyz="-0.0 -0.02 0.0"/>
  </joint>


</robot>
